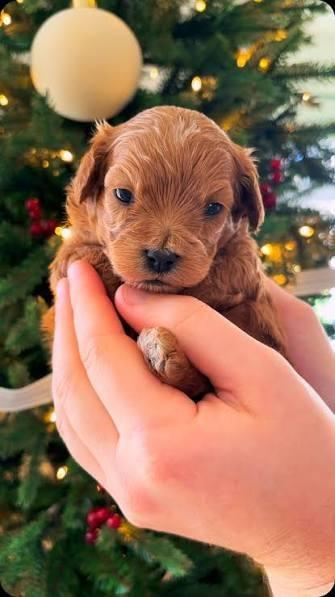puppy-dog: (43, 107, 284, 400)
